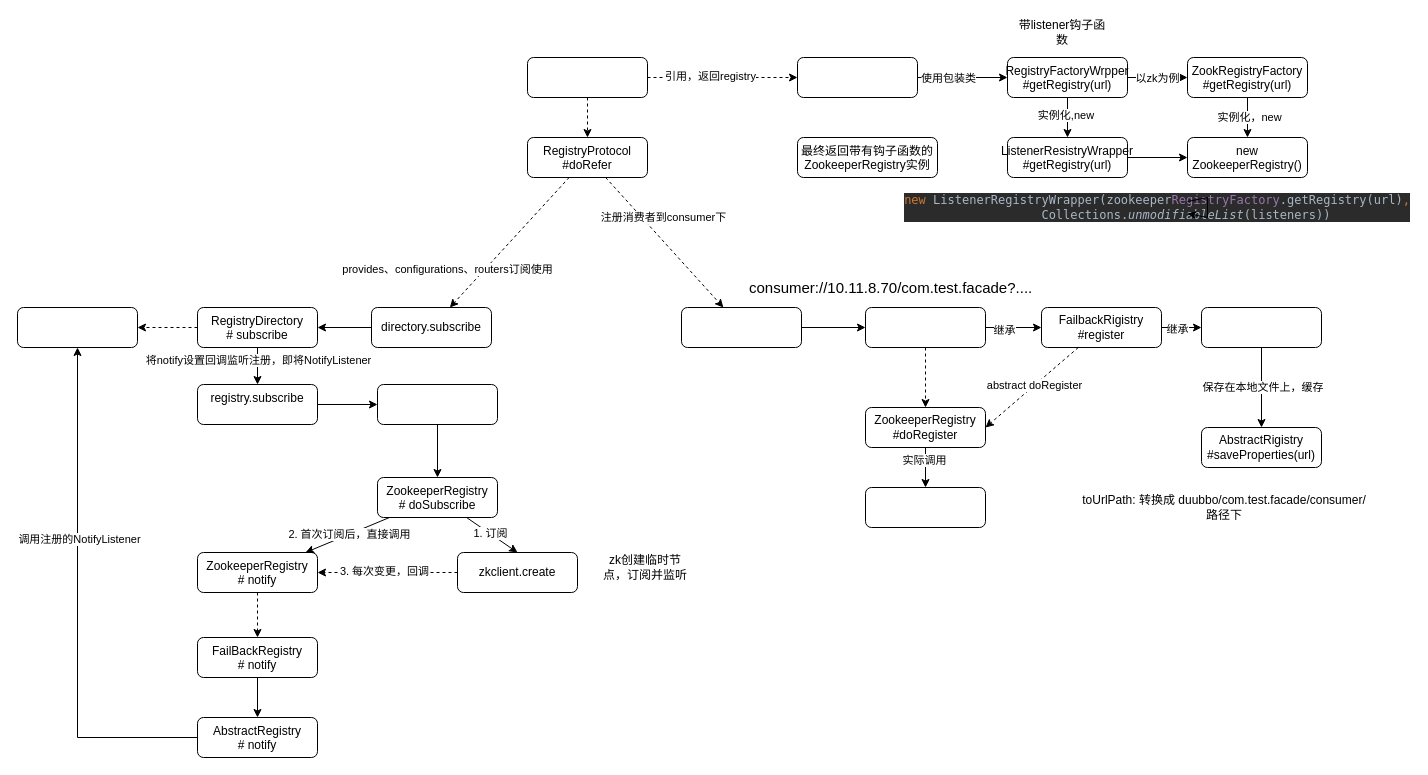
The diagram is 1428 pixels wide and 775 high, and some of its shapes have lost their labels. The shapes that lost their labels are listed below. From the top down, each one's centre as x and y in pixels, then its label:
At point (587, 77): "RegistryProtocol #refer".
At point (857, 77): "RegistryFactory #getRegistry(url)".
At point (77, 327): "RegistryDirectory # notify".
At point (741, 327): "registry.register".
At point (925, 327): "ZookeeperRegistry #register".
At point (1261, 327): "AbstractRigistry #register".
At point (437, 404): "ZookeeperRegistry # subscribe".
At point (925, 507): "zkclient.create(toUrlPath(url), false)".
